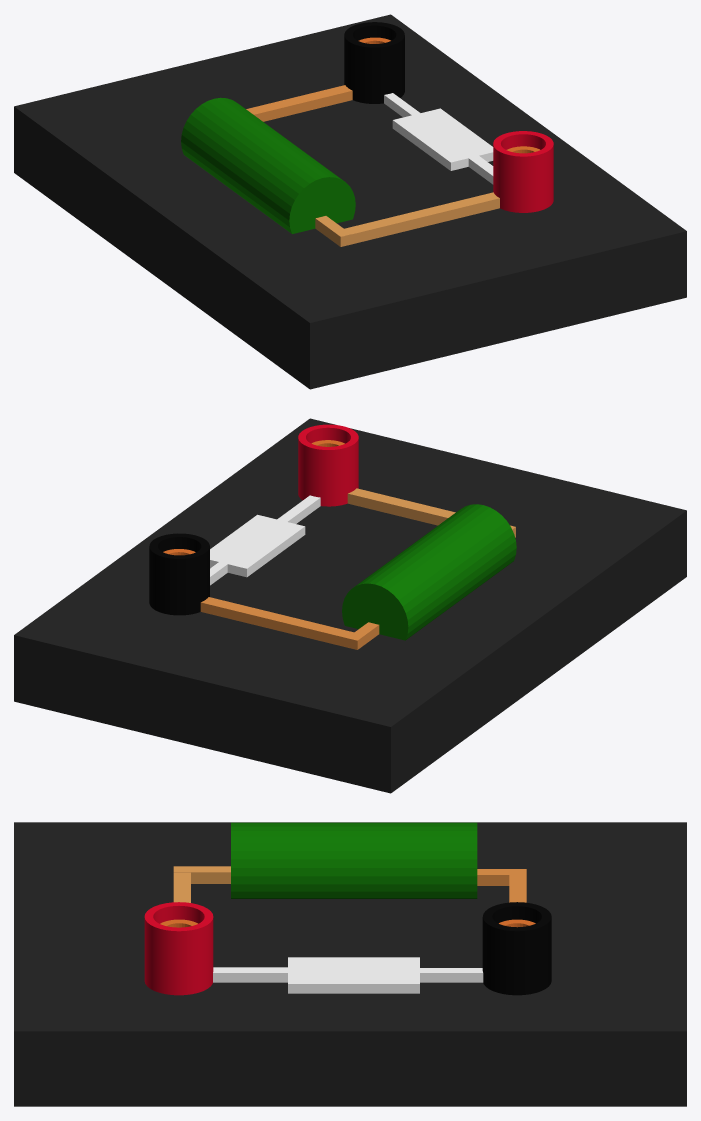
Rendered from Резистор.fbx.
3 views of the same model, one above another, from view 1: azimuth 30°, elevation 25°; view 2: azimuth 150°, elevation 25°; view 3: azimuth 270°, elevation 25° (orthographic). The views are drawn at different scales.
Parts seen in each view (by area): view 1: Cube, Цилиндр.005, Цилиндр, Куб, Цилиндр.001, Куб.003, Куб.001; view 2: Cube, Цилиндр.005, Цилиндр.001, Цилиндр, Куб, Куб.001, Куб.003; view 3: Cube, Цилиндр.005, Куб, Цилиндр.001, Цилиндр, Куб.003, Куб.001.
Boxes of the visible parts, <box> form: Cube: <box>14,14,686,389</box>; Цилиндр.005: <box>181,97,355,233</box>; Цилиндр: <box>493,131,553,212</box>; Куб: <box>384,93,493,184</box>; Цилиндр.001: <box>344,22,404,103</box>; Куб.003: <box>315,192,499,246</box>; Куб.001: <box>246,85,352,121</box>; Cube: <box>14,418,686,793</box>; Цилиндр.005: <box>342,504,516,640</box>; Цилиндр.001: <box>149,533,209,615</box>; Цилиндр: <box>298,424,358,506</box>; Куб: <box>210,495,320,585</box>; Куб.001: <box>200,597,379,649</box>; Куб.003: <box>347,488,515,537</box>; Cube: <box>14,822,686,1106</box>; Цилиндр.005: <box>231,822,477,898</box>; Куб: <box>213,957,483,993</box>; Цилиндр.001: <box>482,902,551,995</box>; Цилиндр: <box>144,902,213,995</box>; Куб.003: <box>173,866,230,902</box>; Куб.001: <box>477,869,526,902</box>.
Size of what is drawn, in the model's own units: 712 by 222 by 969.
